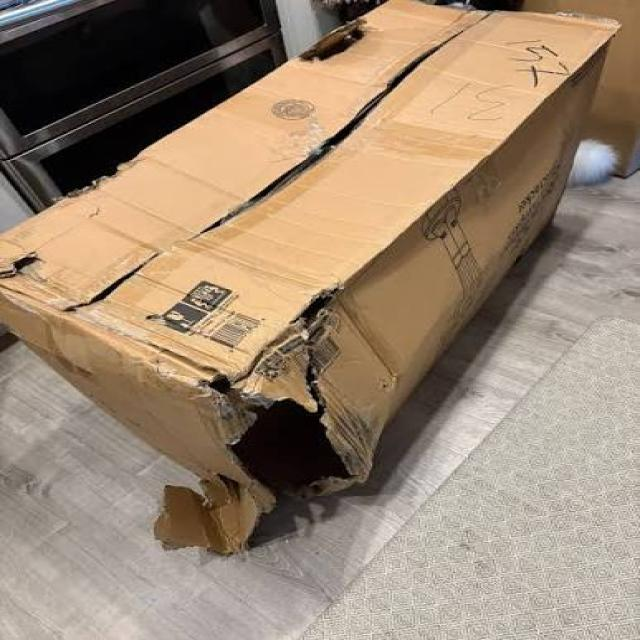carton_box: (0, 0, 640, 564)
package_damage: (43, 11, 507, 344), (174, 282, 405, 551), (288, 10, 387, 66), (0, 248, 52, 285)
